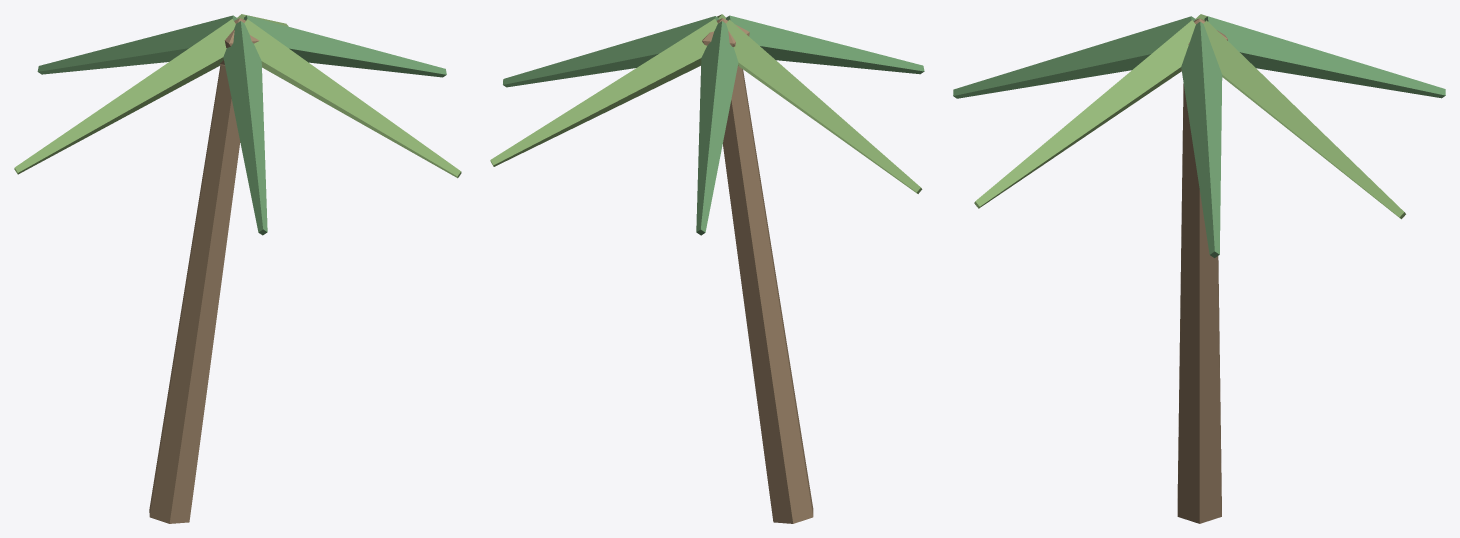
Rendered from civ_nature_palm.glb.
3 views of the same model, side by side, from view 1: azimuth 30°, elevation 25°; view 2: azimuth 150°, elevation 25°; view 3: azimuth 270°, elevation 25° (orthographic). The views are drawn at different scales.
Parts seen in each view (by area): view 1: civ_nature_palm; view 2: civ_nature_palm; view 3: civ_nature_palm.
Part boxes in pixels (left/top/right/bottom): civ_nature_palm: left=14, top=14, right=461, bottom=523; civ_nature_palm: left=490, top=14, right=924, bottom=523; civ_nature_palm: left=953, top=14, right=1445, bottom=523.
Size of the model in its own units: 2.11 by 2.3 by 1.92.
